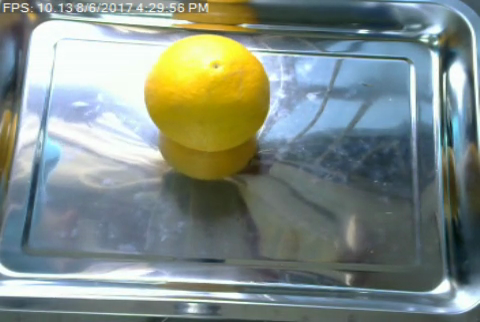Orange: (143, 33, 271, 152)
